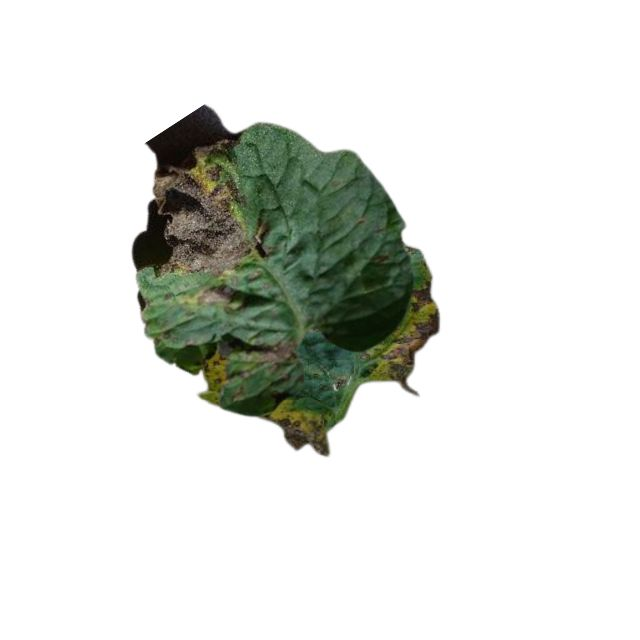Early_blight: (153, 136, 257, 277), (359, 286, 440, 382), (272, 404, 332, 458), (259, 336, 294, 371), (201, 352, 228, 394), (195, 285, 238, 306)
